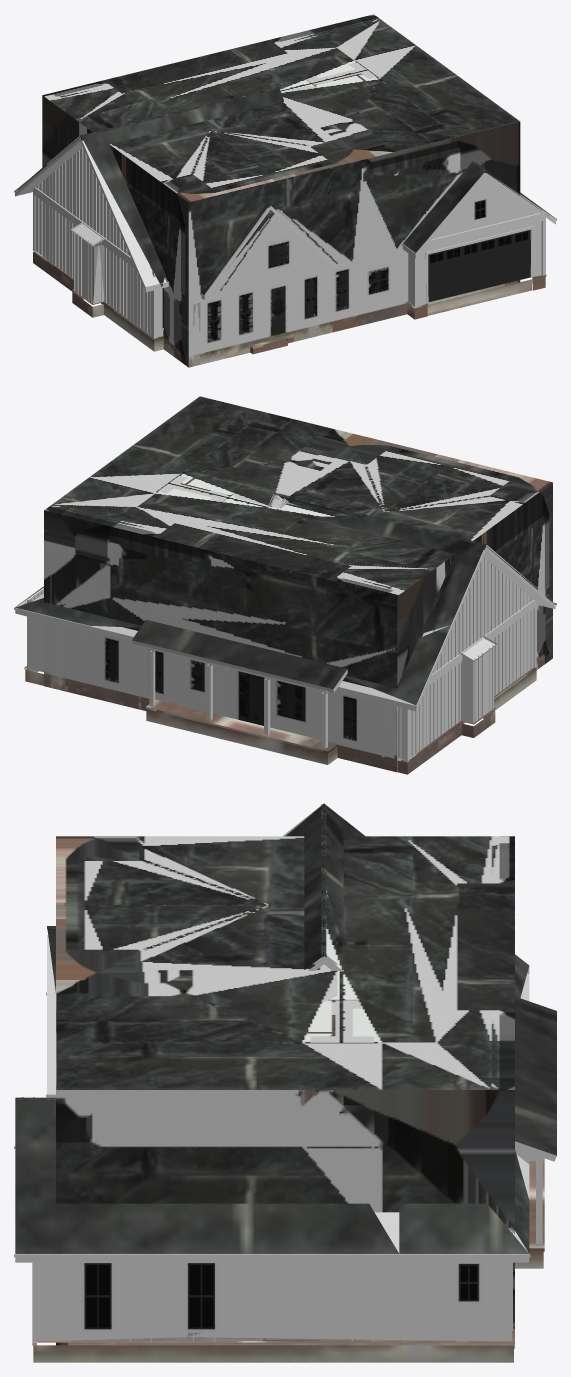
The model's file is aa_american_house.fbx.
The picture shows the model from 3 angles, top to bottom: view 1: azimuth 30°, elevation 25°; view 2: azimuth 150°, elevation 25°; view 3: azimuth 270°, elevation 25°; orthographic projection. The views are drawn at different scales.
Parts seen in each view (by area): view 1: aa_american_house_LOD0; view 2: aa_american_house_LOD0; view 3: aa_american_house_LOD0.
Part boxes in pixels (x1,y1,x2,y2): aa_american_house_LOD0: (14,14,556,367); aa_american_house_LOD0: (14,396,556,774); aa_american_house_LOD0: (14,803,556,1362).
Size of what is drawn, in the model's own units: 19.5 by 8.64 by 15.47.
Materials: 4 (4 with a texture image).
